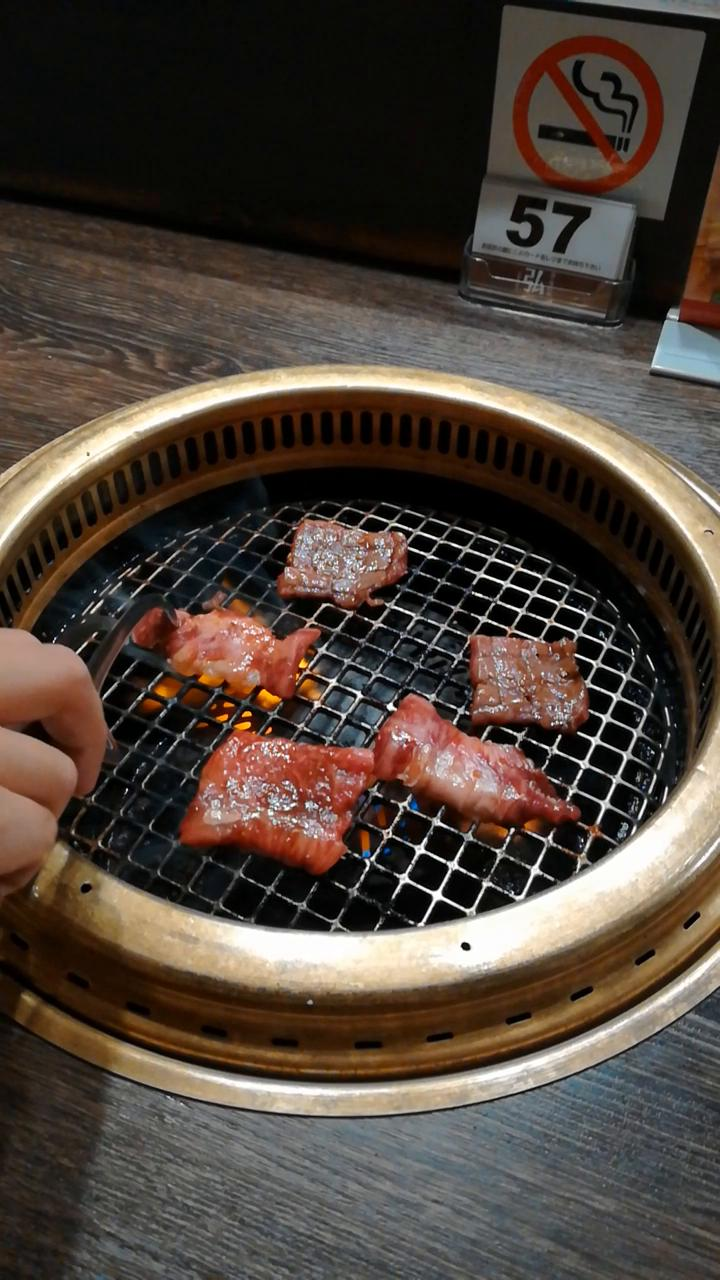cooked_beaf: (272, 499, 429, 620), (457, 624, 606, 747)
raw_beaf: (367, 691, 597, 845), (183, 717, 381, 882), (117, 580, 331, 702)
